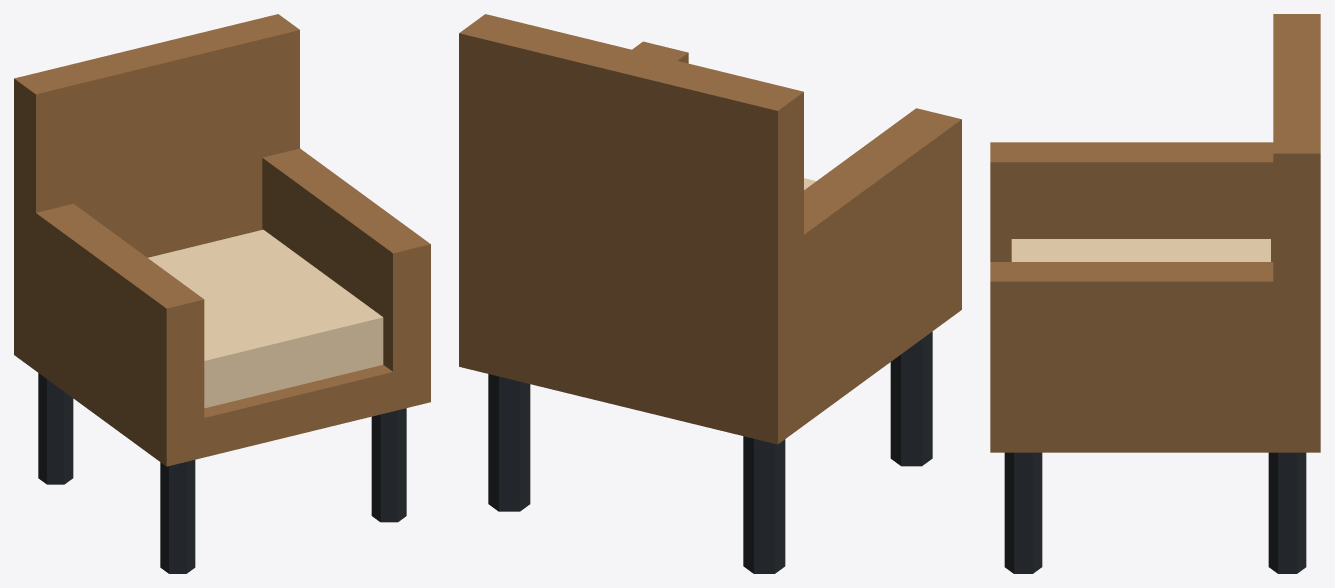
Rendered from patio_wicker_armchair.glb.
3 views of the same model, side by side, from view 1: azimuth 30°, elevation 25°; view 2: azimuth 150°, elevation 25°; view 3: azimuth 270°, elevation 25° (orthographic). The views are drawn at different scales.
Parts seen in each view (by area): view 1: wicker_armchair; view 2: wicker_armchair; view 3: wicker_armchair.
Boxes of the visible parts, x1,y1,x2,y2 form: wicker_armchair: (14, 14, 430, 573); wicker_armchair: (459, 14, 961, 573); wicker_armchair: (990, 14, 1320, 573).
Bounding box in the file's own units: 0.7 × 1 × 0.7.
